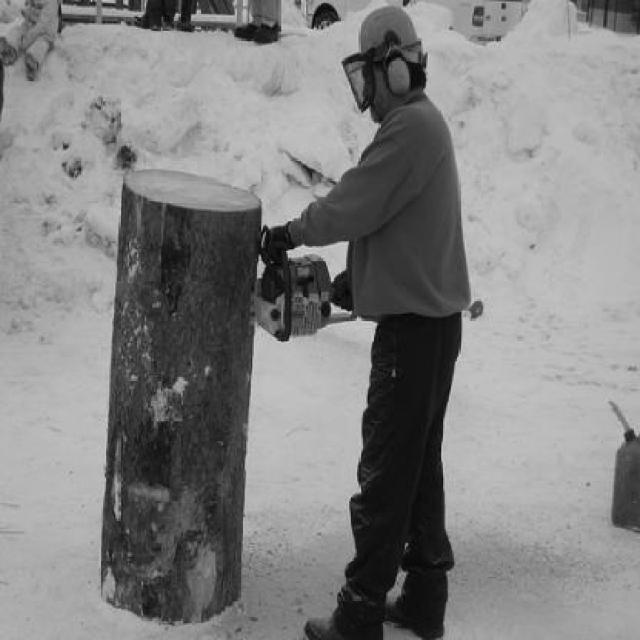Chainsaw: (258, 235, 356, 340)
